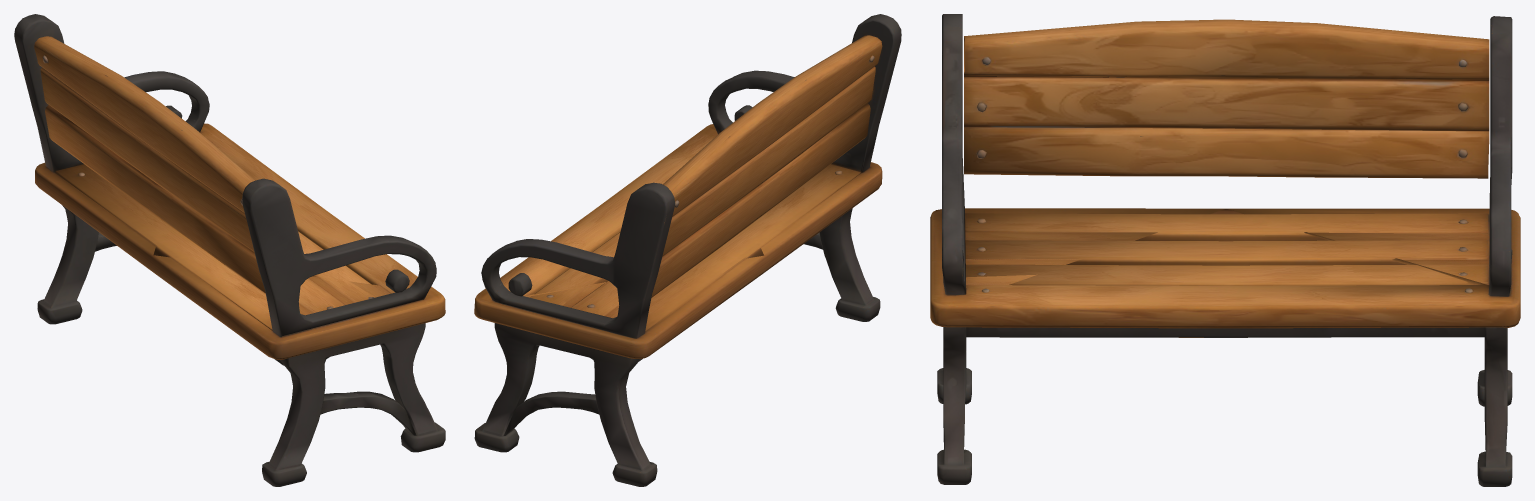
Rendered from bench.glb.
3 renders of one model, left to right at view 1: azimuth 30°, elevation 25°; view 2: azimuth 150°, elevation 25°; view 3: azimuth 270°, elevation 25°, orthographic. The views are drawn at different scales.
Parts seen in each view (by area): view 1: tripo_node_c58dd3a1-8500-4216-a47e-137e2d106364; view 2: tripo_node_c58dd3a1-8500-4216-a47e-137e2d106364; view 3: tripo_node_c58dd3a1-8500-4216-a47e-137e2d106364.
Part boxes in pixels (x1=…): tripo_node_c58dd3a1-8500-4216-a47e-137e2d106364: x1=14, y1=14, x2=445, y2=486; tripo_node_c58dd3a1-8500-4216-a47e-137e2d106364: x1=474, y1=14, x2=901, y2=486; tripo_node_c58dd3a1-8500-4216-a47e-137e2d106364: x1=930, y1=14, x2=1520, y2=486.
Bounding box in the file's own units: 0.459 × 0.6855 × 0.998.
Materials: 1 (1 with a texture image).
